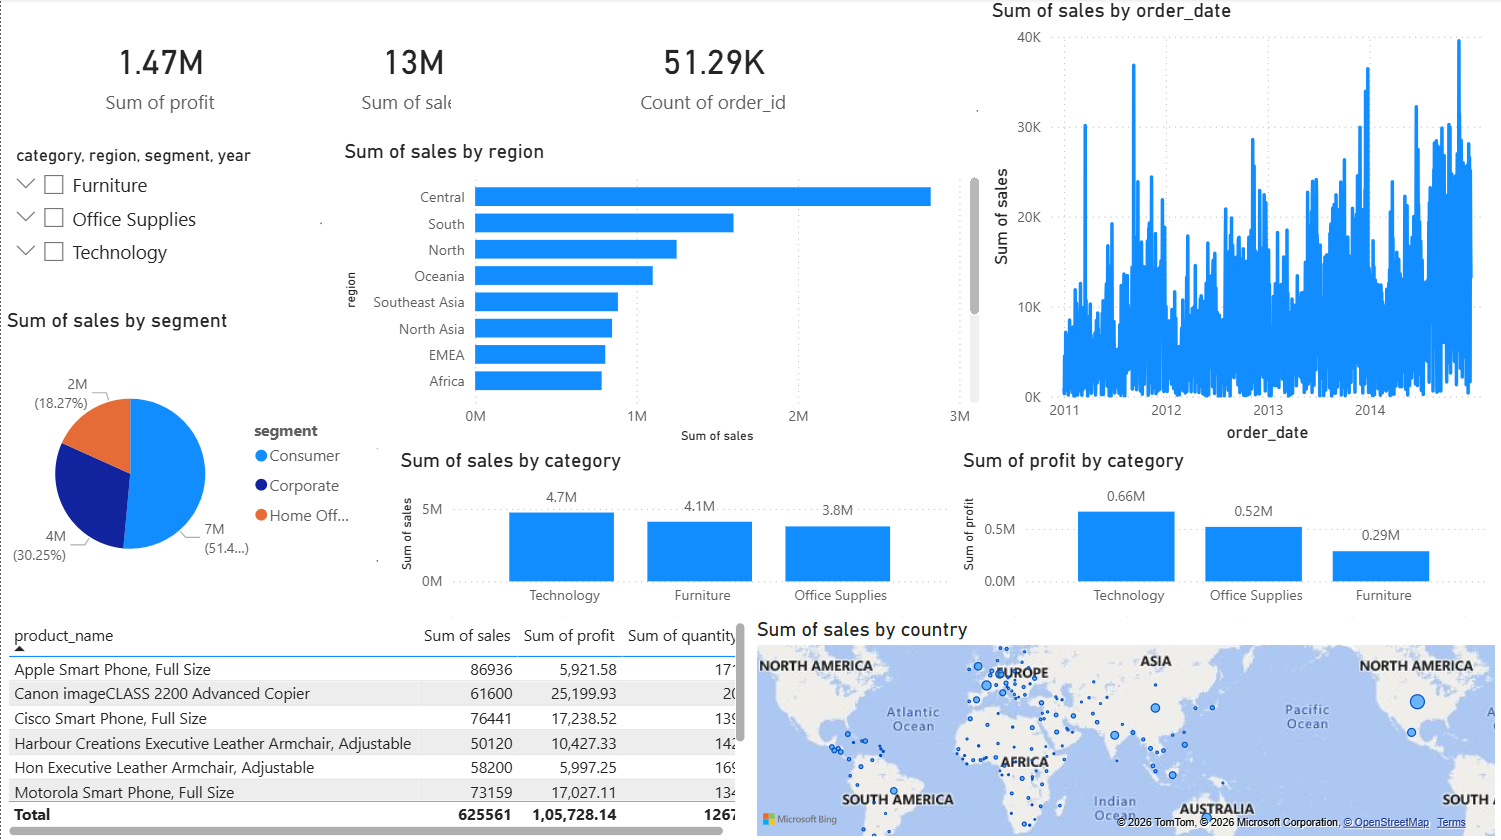

What the dashboard file says about the page in this screenshot:
{"tool":"powerbi","page":{"name":"Page 1","canvas":[1280,720],"ordinal":0},"visuals":[{"type":"card","fields":{"Values":["Sum(superstore_sales.sales)"]},"box":[192,0,320,128],"z":0},{"type":"card","fields":{"Values":["Sum(superstore_sales.profit)"]},"box":[0,0,272,128],"z":1000},{"type":"card","fields":{"Values":["CountNonNull(superstore_sales.order_id)"]},"box":[384,0,448,128],"z":2000},{"type":"clusteredBarChart","fields":{"Category":["superstore_sales.region"],"Y":["Sum(superstore_sales.sales)"]},"box":[288,120,552,264],"z":3000},{"type":"lineChart","fields":{"Y":["Sum(superstore_sales.sales)"],"Category":["superstore_sales.order_date"]},"box":[840,0,432,384],"z":4000},{"type":"slicer","fields":{"Values":["superstore_sales.category","superstore_sales.region","superstore_sales.segment","superstore_sales.year"]},"box":[0,120,264,144],"z":5000},{"type":"clusteredColumnChart","fields":{"Category":["superstore_sales.category"],"Y":["Sum(superstore_sales.sales)"]},"box":[336,384,480,144],"z":6000},{"type":"clusteredColumnChart","fields":{"Category":["superstore_sales.category"],"Y":["Sum(superstore_sales.profit)"]},"box":[816,384,456,144],"z":7000},{"type":"tableEx","fields":{"Values":["superstore_sales.product_name","Sum(superstore_sales.sales)","Sum(superstore_sales.profit)","Sum(superstore_sales.quantity)"]},"box":[0,528,640,192],"z":8000},{"type":"pieChart","fields":{"Category":["superstore_sales.segment"],"Y":["Sum(superstore_sales.sales)"]},"box":[0,264,312,264],"z":9000},{"type":"map","fields":{"Category":["superstore_sales.country"],"Size":["Sum(superstore_sales.sales)"]},"box":[640,528,640,192],"z":10000}]}

Visuals, with their boxes in screenshot pixels (x1, y1, x2, y2), scaled from the page's 1280x720 canvas onto the 1501x840 screenshot:
card - Sum(superstore_sales.sales): pyautogui.locateOnScreen(225, 0, 600, 149)
card - Sum(superstore_sales.profit): pyautogui.locateOnScreen(0, 0, 319, 149)
card - CountNonNull(superstore_sales.order_id): pyautogui.locateOnScreen(450, 0, 976, 149)
clusteredBarChart - superstore_sales.region x Sum(superstore_sales.sales): pyautogui.locateOnScreen(338, 140, 985, 448)
lineChart - Sum(superstore_sales.sales) x superstore_sales.order_date: pyautogui.locateOnScreen(985, 0, 1492, 448)
slicer - superstore_sales.category x superstore_sales.region: pyautogui.locateOnScreen(0, 140, 310, 308)
clusteredColumnChart - superstore_sales.category x Sum(superstore_sales.sales): pyautogui.locateOnScreen(394, 448, 957, 616)
clusteredColumnChart - superstore_sales.category x Sum(superstore_sales.profit): pyautogui.locateOnScreen(957, 448, 1492, 616)
tableEx - superstore_sales.product_name x Sum(superstore_sales.sales): pyautogui.locateOnScreen(0, 616, 750, 839)
pieChart - superstore_sales.segment x Sum(superstore_sales.sales): pyautogui.locateOnScreen(0, 308, 366, 616)
map - superstore_sales.country x Sum(superstore_sales.sales): pyautogui.locateOnScreen(750, 616, 1500, 839)
